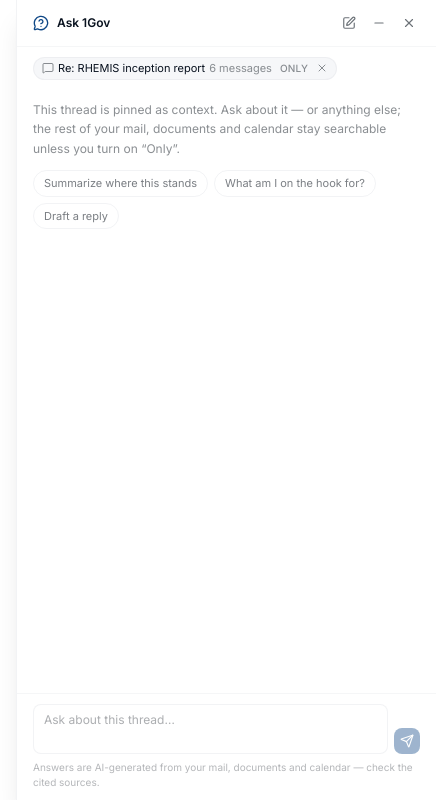
Scenario: AskPanel scope chip › clears the pinned ack on a new conversation but keeps the gathered count
In the text box with placeholder "Ask about this thread…": (210, 729) [33,704,388,754], type "one"
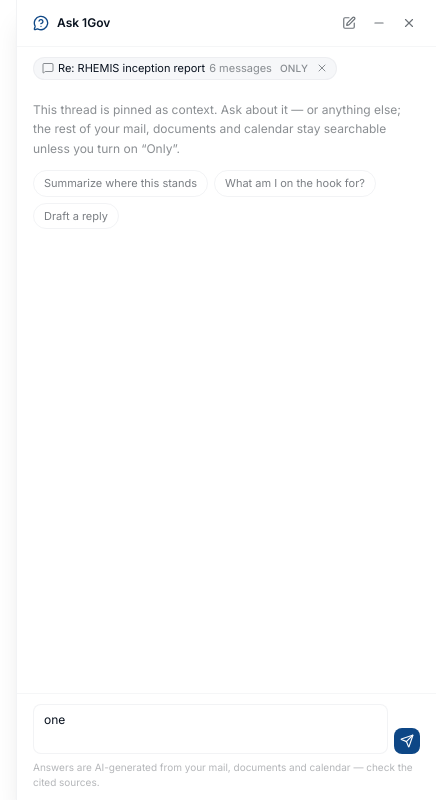
Click the button named "Send": (407, 741) [394,728,420,754]
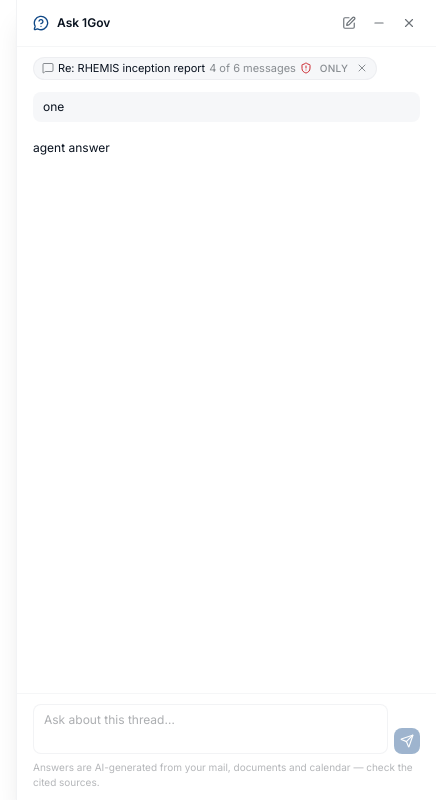
Check: the text "4 of 6 messages" is shown, box [209,60,296,76]
Click the button named "new conversation": (349, 23) [338,12,360,34]
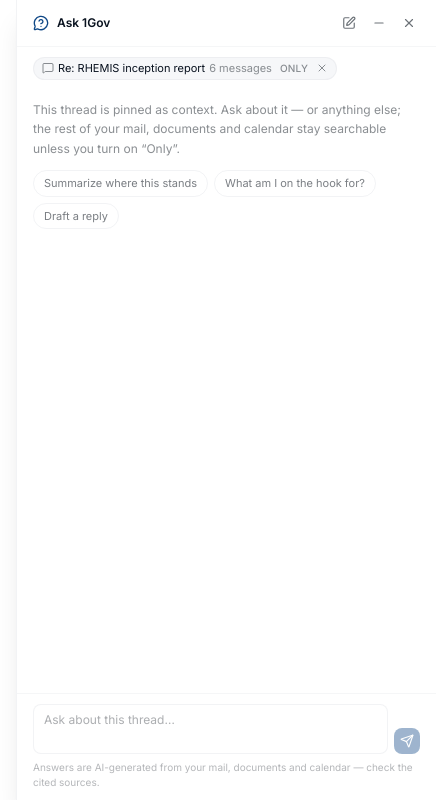
Check: the text "6 messages" is shown, box [209,60,272,76]
Check: the text "4 of 6 messages" is gone
